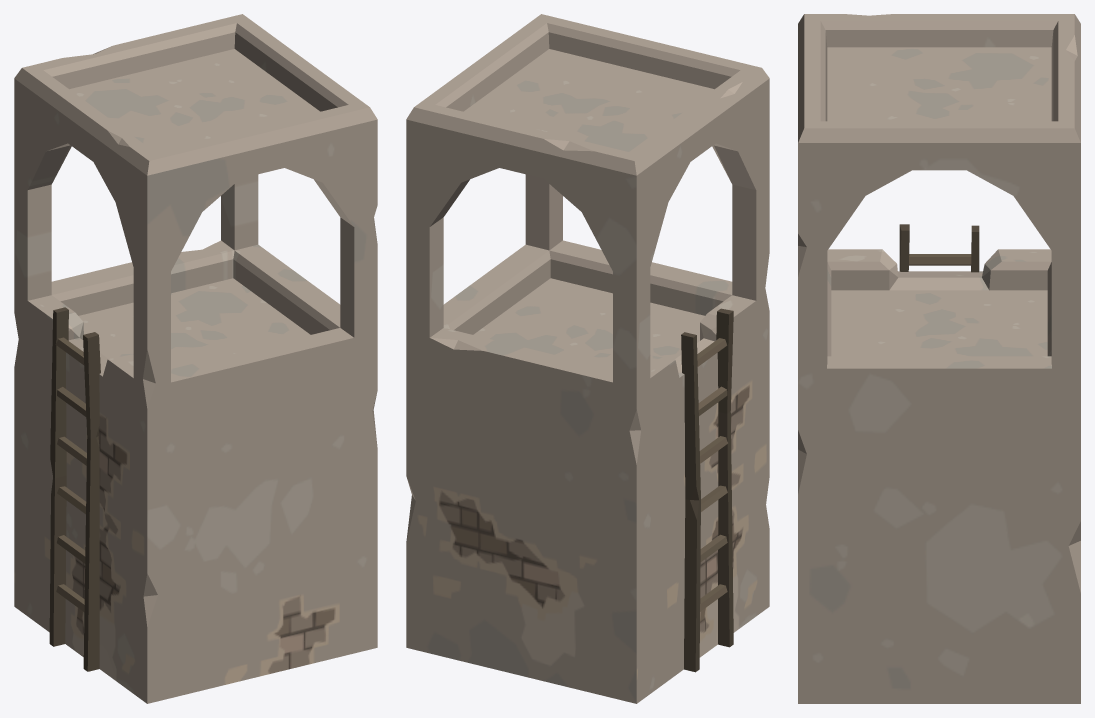
The model's file is SM_Bld_Village_Village_House_Tower_01.glb.
The picture shows the model from 3 angles, left to right: view 1: azimuth 30°, elevation 25°; view 2: azimuth 150°, elevation 25°; view 3: azimuth 270°, elevation 25°; orthographic projection. The views are drawn at different scales.
Visible parts, largest first — view 1: SM_Bld_Village_Village_House_Tower_01; view 2: SM_Bld_Village_Village_House_Tower_01; view 3: SM_Bld_Village_Village_House_Tower_01.
Boxes of the visible parts, x1,y1,x2,y2 form: SM_Bld_Village_Village_House_Tower_01: (14,14,377,703); SM_Bld_Village_Village_House_Tower_01: (406,14,769,703); SM_Bld_Village_Village_House_Tower_01: (798,14,1080,703).
Size of the model in its own units: 2.57 by 5.47 by 2.45.
Materials: 1 (1 with a texture image).
